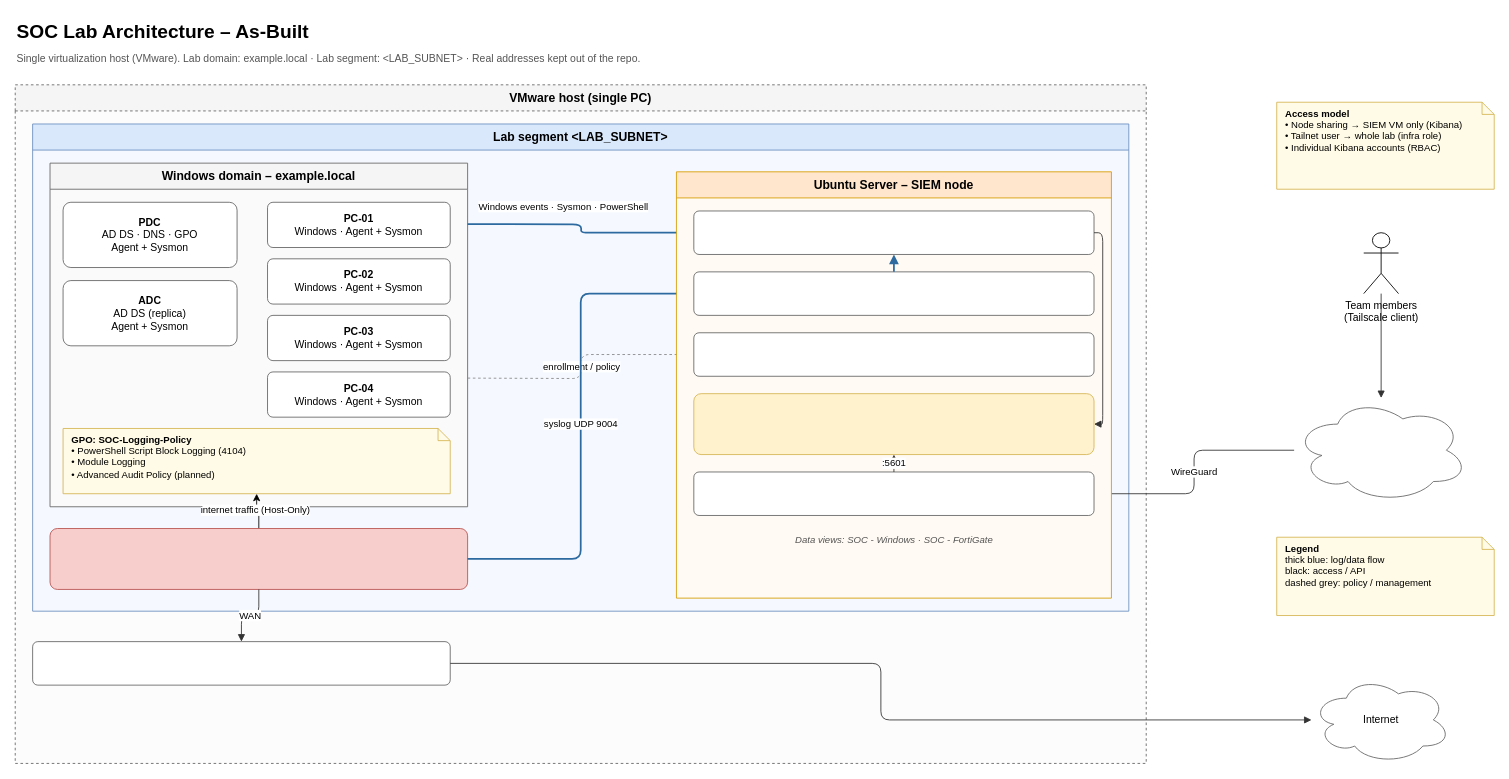
Some shapes in this 1509 by 779 pixel diagram are drawn without their labels. Here are the shapes that lost their labels. From the top down, the centre of each, then its label:
point (893, 232): Elasticsearch :9200
point (893, 293): Elastic Agent – FortiGate integration · UDP :9004 syslog listener
point (893, 354): Fleet Server :8220 · agent enrollment & policies
point (893, 424): Kibana + Elastic Security :5601 dashboards · detection rules · alerts · cases
point (1380, 449): Tailscale (WireGuard) encrypted overlay
point (893, 493): Tailscale subnet router (advertises <LAB_SUBNET>)
point (258, 558): FortiGate VM – firewall / gateway traffic logs sent as syslog
point (241, 663): VMware NAT network (internet access)
